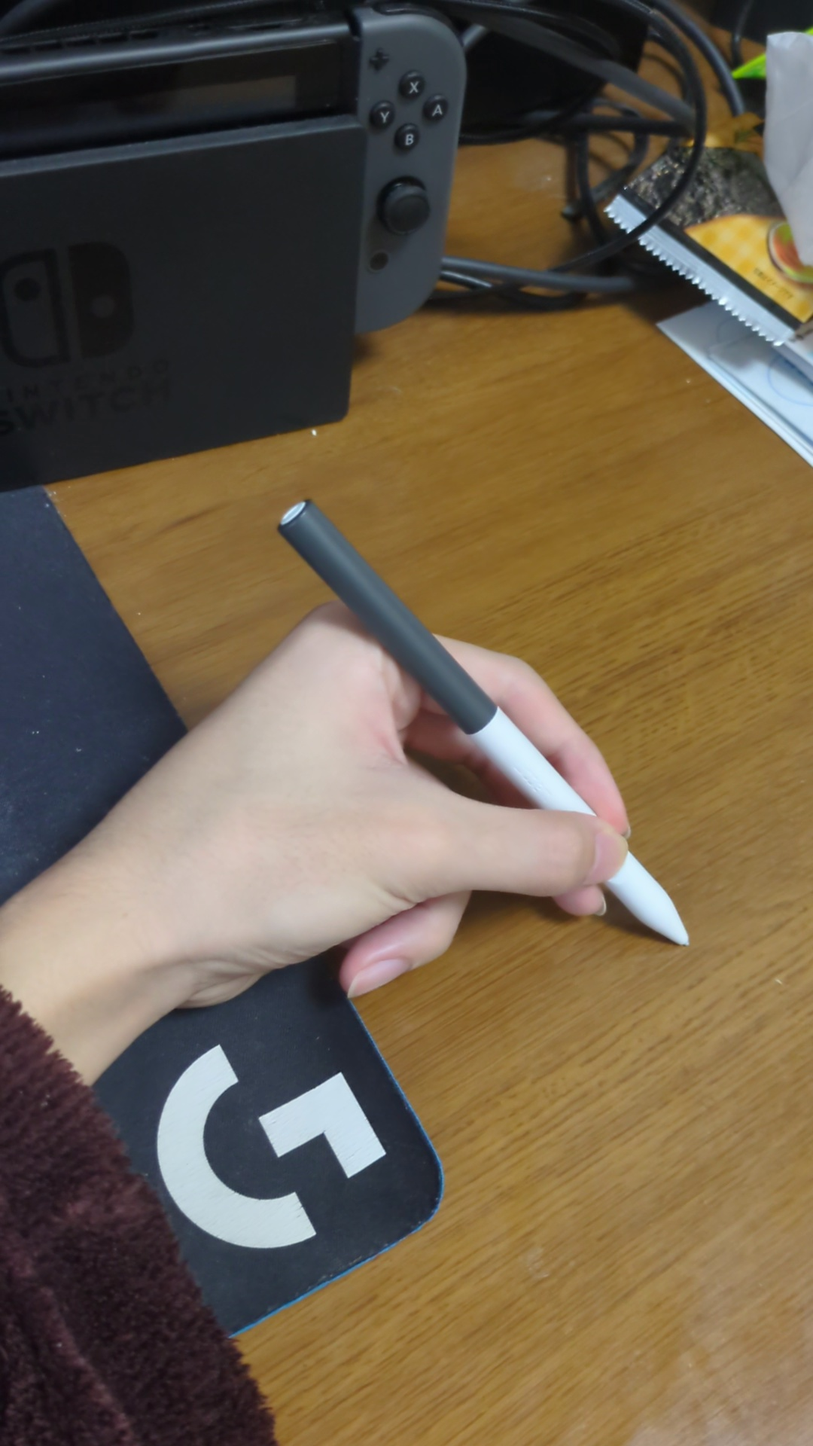pen: (276, 496, 698, 953)
tip: (670, 923, 698, 953)
